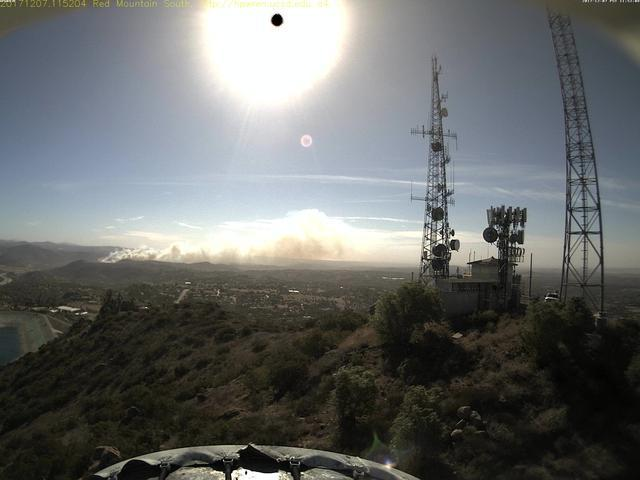smoke: (98, 206, 413, 271)
